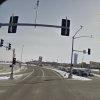Traffic light: (5, 12, 76, 41)
